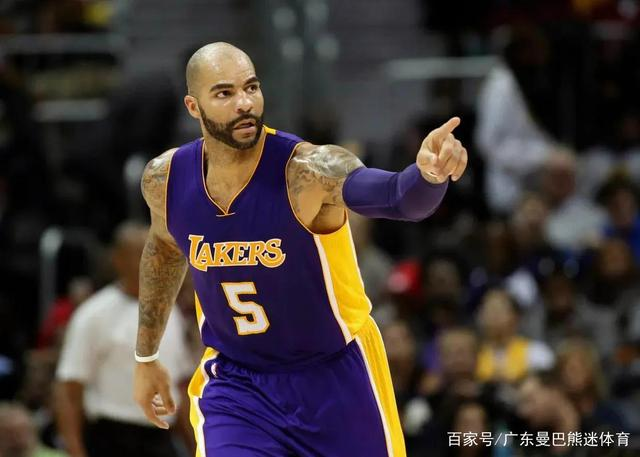no-phone: (413, 111, 473, 188), (128, 359, 182, 431)
